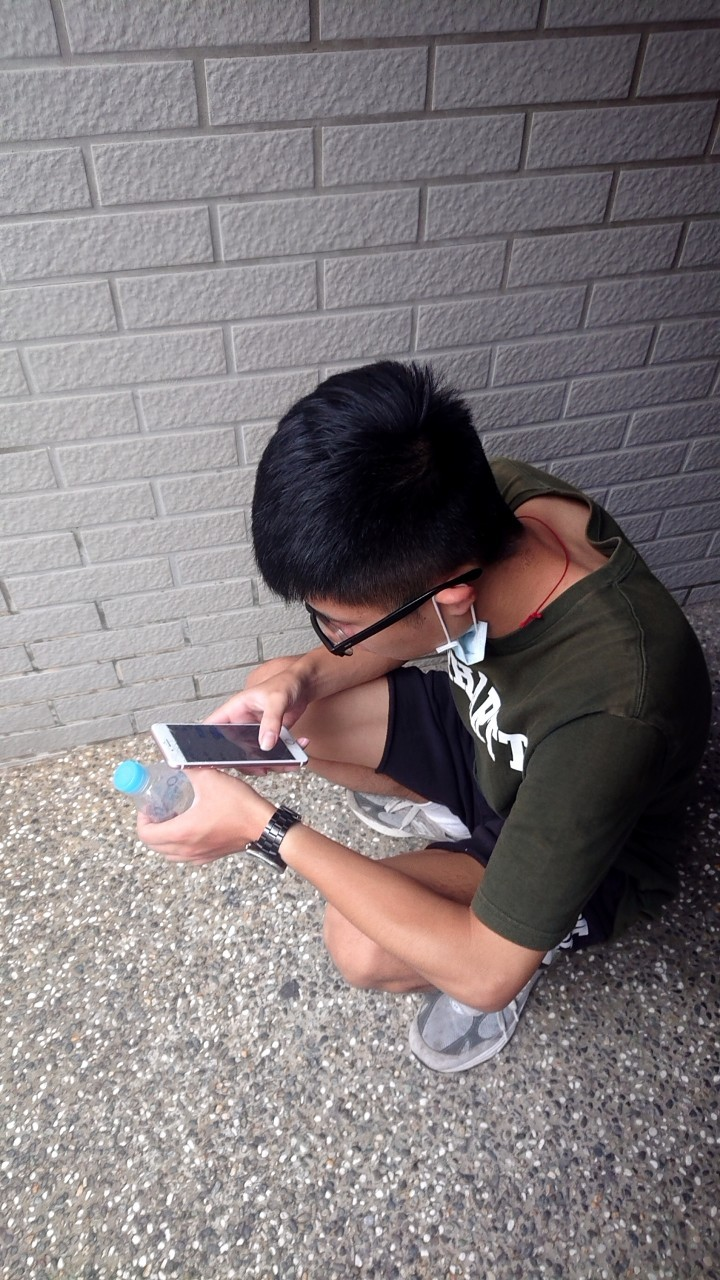people: (167, 368, 707, 1092)
